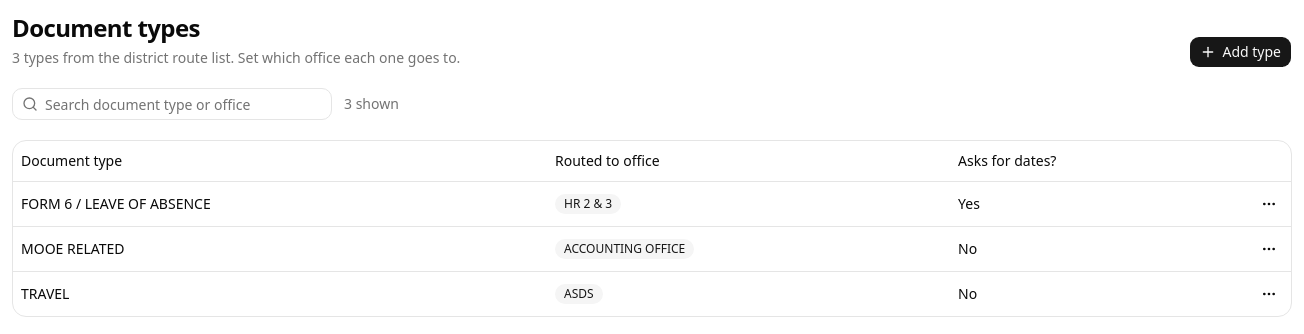
it: DocumentTypesPage › filters by document type or office
Expected: the text "MOOE RELATED" is shown, [13, 226, 547, 271]
In the search field with placeholder "Search document type or office": point(172, 104) [12, 88, 332, 120], type "accounting"
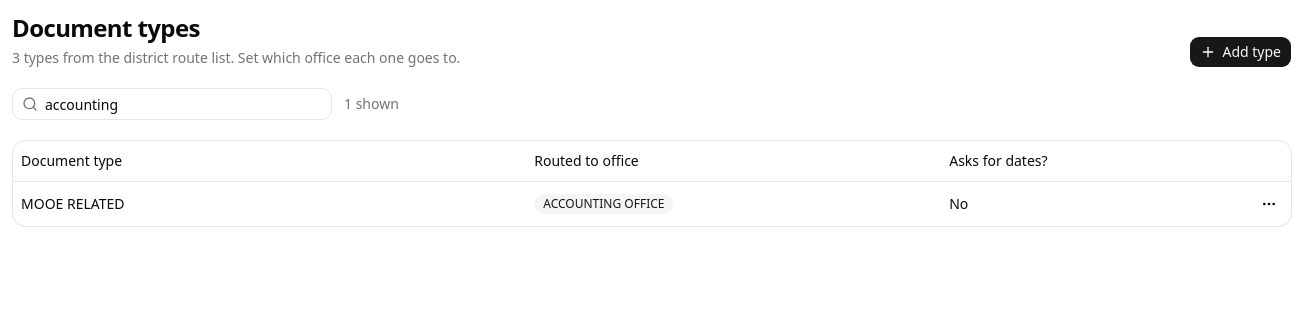
Expected: the text "MOOE RELATED" is shown, [13, 181, 526, 226]
Expected: the text "TRAVEL" is gone
Expected: the text "1 shown" is shown, [344, 94, 399, 114]
